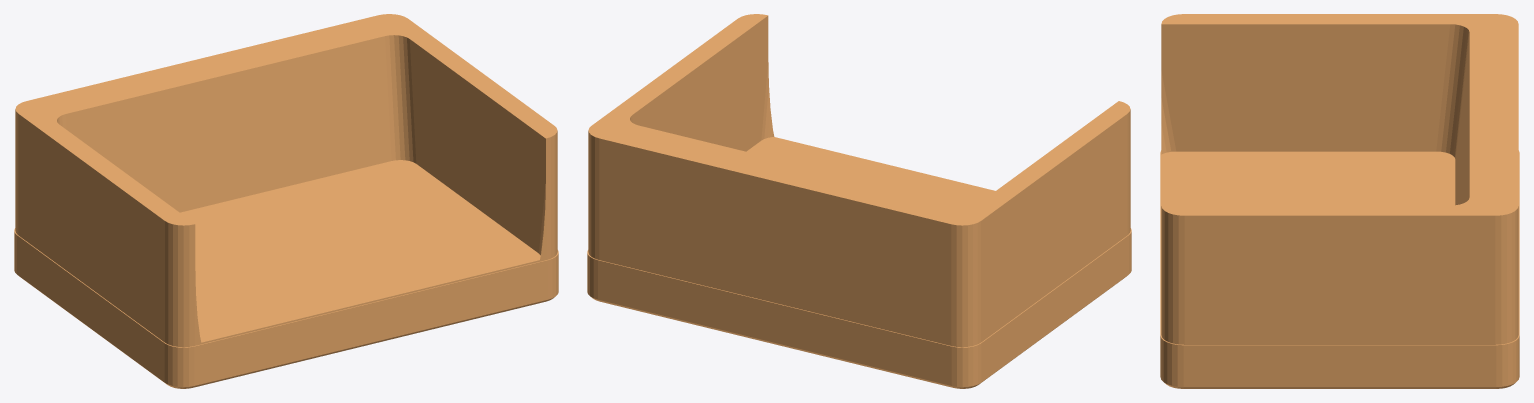
File: kit-scoop-blade.glb
The picture shows the model from 3 angles, left to right: view 1: azimuth 30°, elevation 25°; view 2: azimuth 150°, elevation 25°; view 3: azimuth 270°, elevation 25°; orthographic projection. The views are drawn at different scales.
Visible parts, largest first — view 1: kit-scoop-blade; view 2: kit-scoop-blade; view 3: kit-scoop-blade.
Part boxes in pixels (box(x1,y1,x2,y2)): kit-scoop-blade: box(14, 14, 558, 388); kit-scoop-blade: box(587, 14, 1131, 388); kit-scoop-blade: box(1160, 14, 1519, 388).
Size of the model in its own units: 0.0498 by 0.02 by 0.0373.
